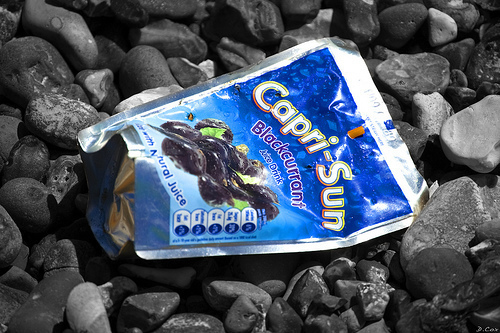litter: (74, 36, 433, 260)
